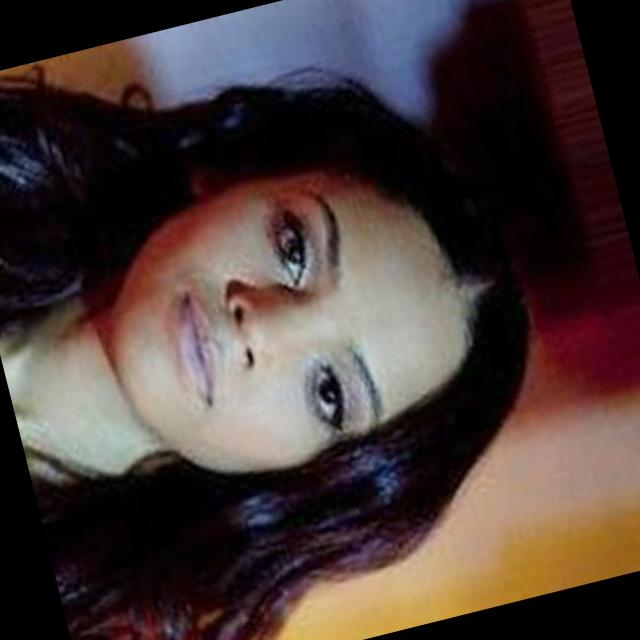bareface: (91, 96, 535, 500)
